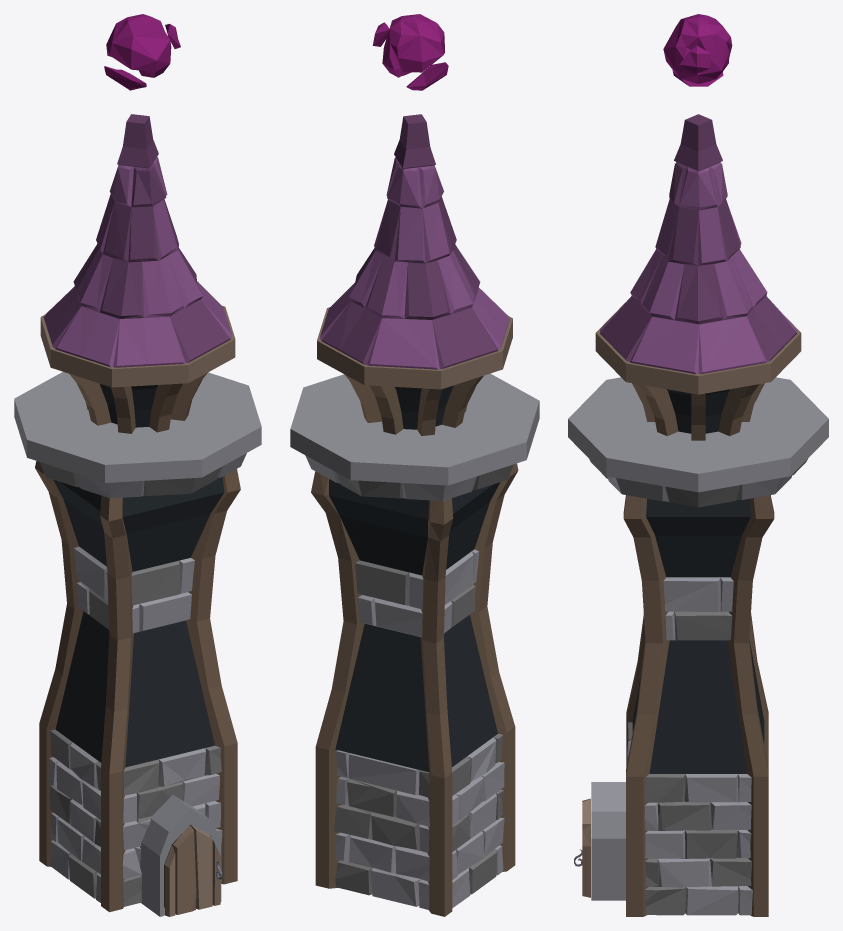
Rendered from Wizard_LVL1.fbx.
3 renders of one model, left to right at view 1: azimuth 30°, elevation 25°; view 2: azimuth 150°, elevation 25°; view 3: azimuth 270°, elevation 25°, orthographic.
Visible parts, largest first — view 1: Wizard_tower_LVL_1, Wizard_tower_LVL_1.001; view 2: Wizard_tower_LVL_1, Wizard_tower_LVL_1.001; view 3: Wizard_tower_LVL_1, Wizard_tower_LVL_1.001.
Part boxes in pixels (x1,y1,x2,y2): Wizard_tower_LVL_1: (14, 114, 261, 916); Wizard_tower_LVL_1.001: (104, 14, 180, 90); Wizard_tower_LVL_1: (290, 114, 539, 916); Wizard_tower_LVL_1.001: (372, 14, 448, 90); Wizard_tower_LVL_1: (568, 114, 828, 916); Wizard_tower_LVL_1.001: (663, 14, 732, 86).
Bounding box in the file's own units: 552 × 2028 × 552.
